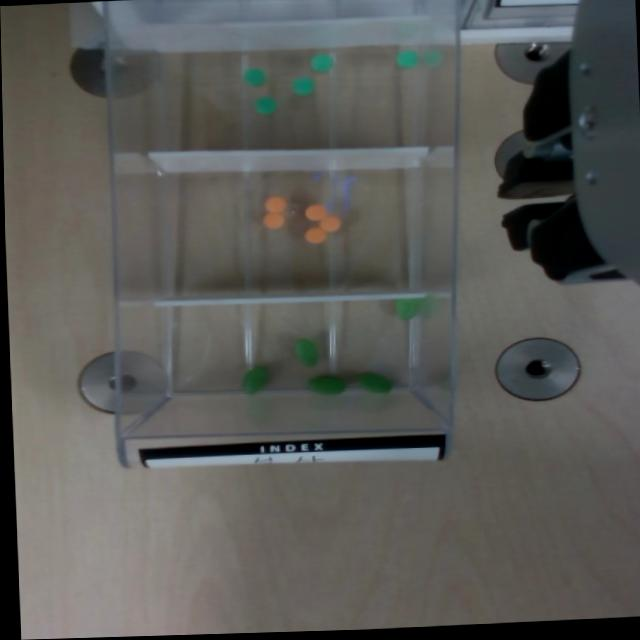famodine: (252, 96, 276, 114), (242, 68, 265, 86), (395, 49, 417, 67), (309, 54, 331, 70), (291, 79, 312, 95)
otillen_tab: (239, 366, 270, 393), (240, 365, 267, 394), (354, 373, 391, 393), (291, 338, 316, 367), (307, 375, 345, 394), (355, 373, 390, 393), (293, 339, 317, 366), (306, 377, 343, 394), (393, 298, 415, 320), (392, 298, 415, 319)
samsung_octylonium_tab: (261, 211, 284, 229), (302, 203, 325, 220), (263, 195, 285, 212), (303, 226, 324, 243), (317, 215, 339, 231)
